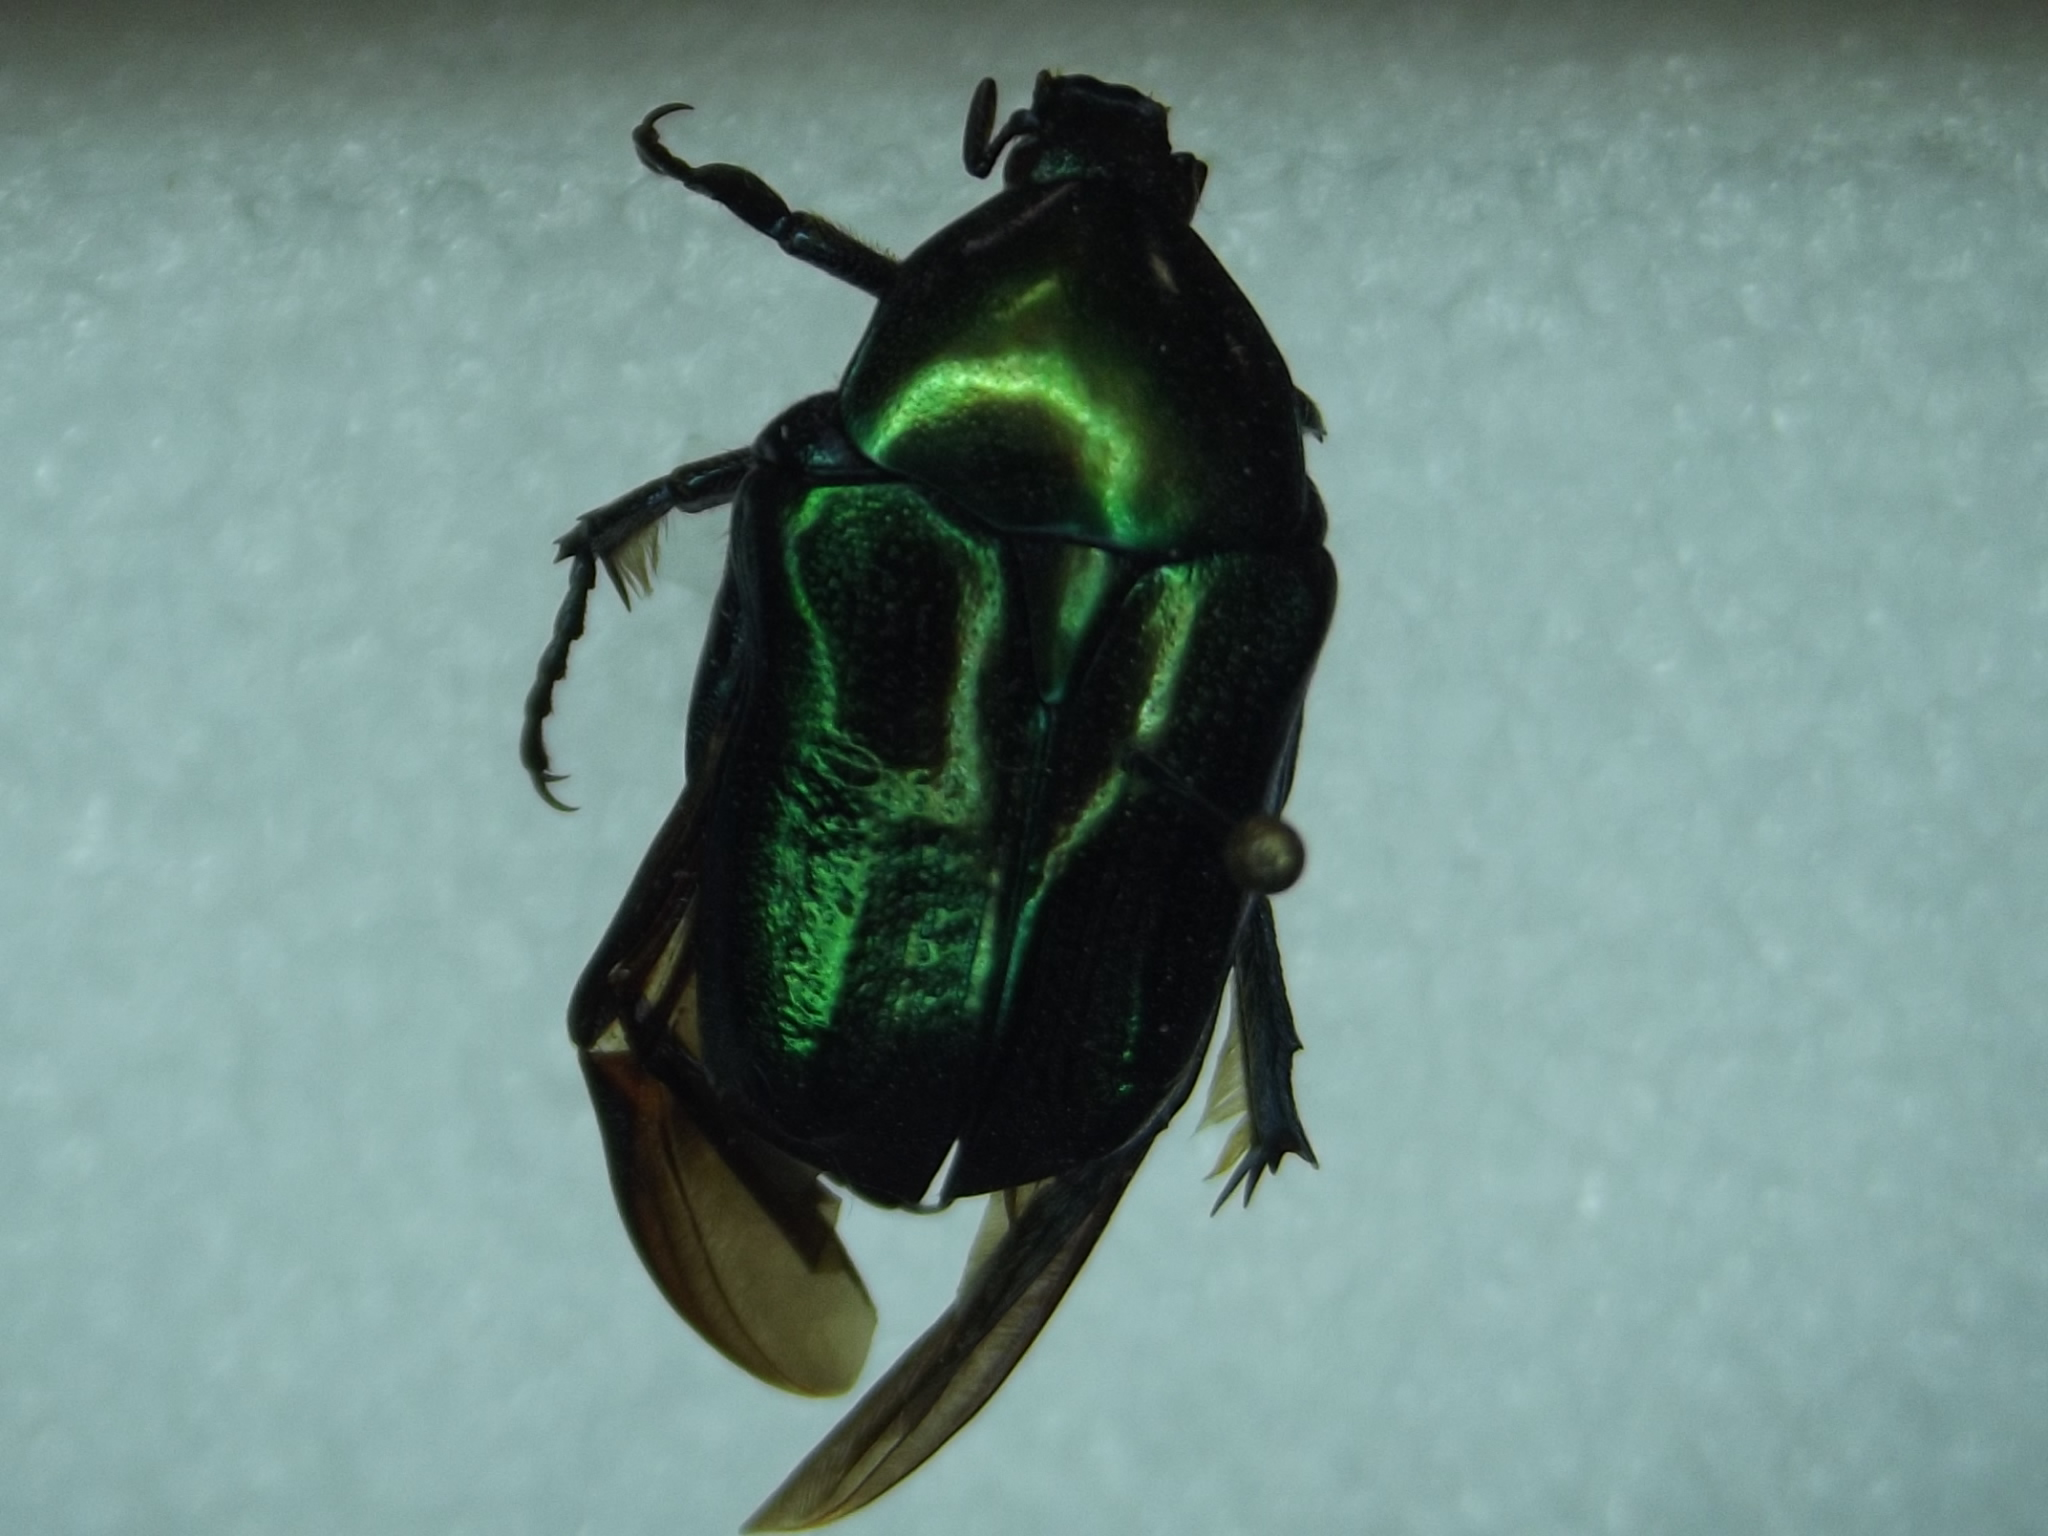Protaetia_angustata_angustata: (485, 47, 1351, 1536)
